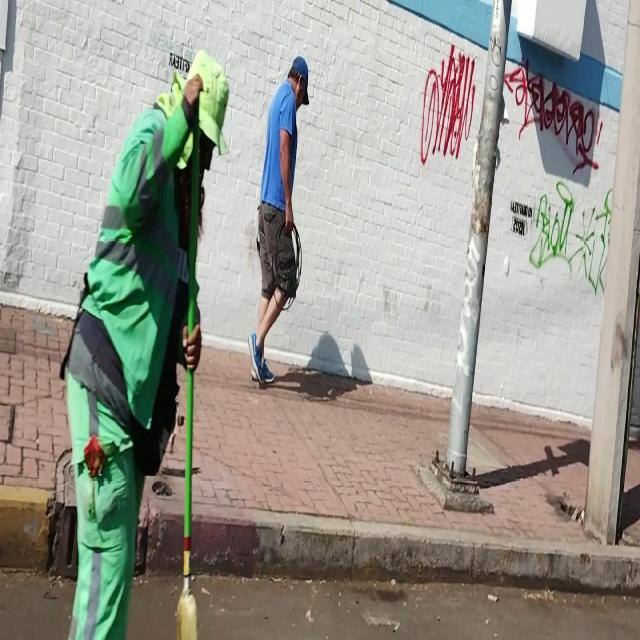adult: (63, 48, 229, 640), (248, 55, 310, 387)
